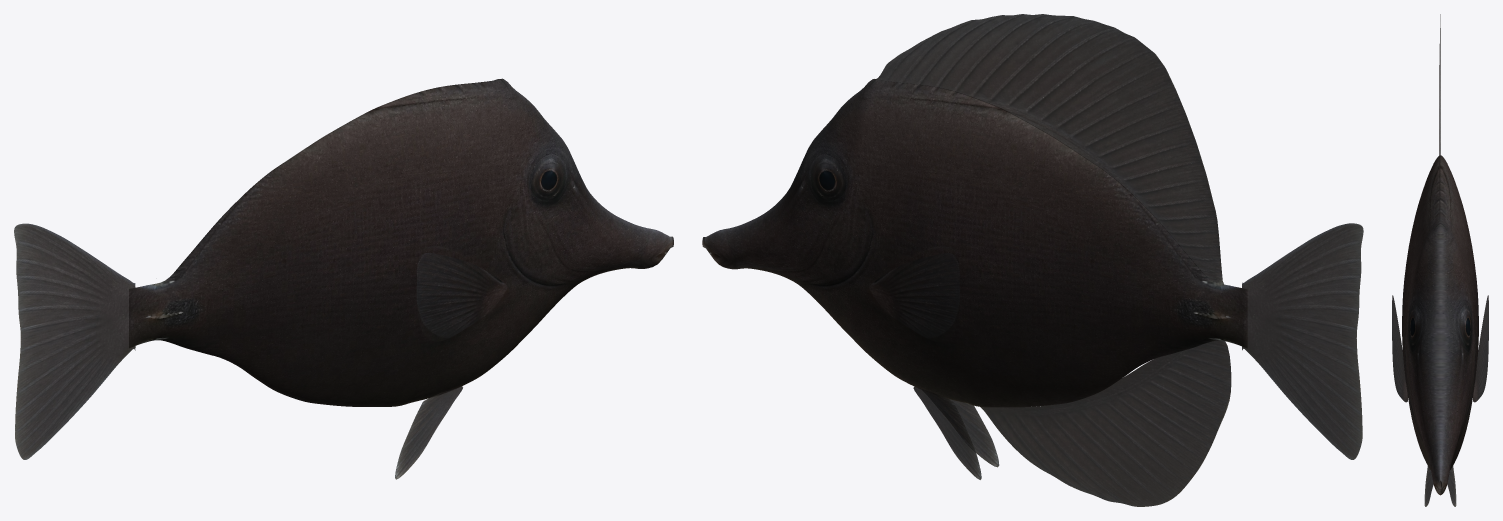
File: rostratum-AqwMZcU2.glb
The picture shows the model from 3 angles, left to right: view 1: azimuth 30°, elevation 25°; view 2: azimuth 150°, elevation 25°; view 3: azimuth 270°, elevation 25°; orthographic projection. The views are drawn at different scales.
Parts seen in each view (by area): view 1: rostratum__body, rostratum__fin_0, rostratum__pectoral_1, rostratum__gill_1, rostratum__pelvic_1, rostratum__eye_1; view 2: rostratum__body, rostratum__fin_1, rostratum__fin_2, rostratum__fin_0, rostratum__pectoral_-1, rostratum__gill_-1, rostratum__pelvic_-1, rostratum__pelvic_1, rostratum__eye_-1; view 3: rostratum__body, rostratum__pectoral_1, rostratum__pectoral_-1, rostratum__fin_1, rostratum__gill_-1, rostratum__gill_1, rostratum__eye_1, rostratum__eye_-1, rostratum__pelvic_1, rostratum__pelvic_-1.
Boxes of the visible parts, left/top/right/bottom form: rostratum__body: left=135, top=78, right=673, bottom=406; rostratum__fin_0: left=14, top=223, right=135, bottom=459; rostratum__pectoral_1: left=416, top=253, right=509, bottom=341; rostratum__gill_1: left=508, top=198, right=558, bottom=285; rostratum__pelvic_1: left=395, top=386, right=462, bottom=479; rostratum__eye_1: left=532, top=160, right=561, bottom=198; rostratum__body: left=702, top=79, right=1247, bottom=407; rostratum__fin_1: left=876, top=14, right=1223, bottom=284; rostratum__fin_2: left=980, top=340, right=1231, bottom=506; rostratum__fin_0: left=1242, top=223, right=1363, bottom=459; rostratum__pectoral_-1: left=866, top=253, right=959, bottom=341; rostratum__gill_-1: left=817, top=199, right=867, bottom=285; rostratum__pelvic_-1: left=913, top=386, right=981, bottom=479; rostratum__pelvic_1: left=948, top=399, right=999, bottom=467; rostratum__eye_-1: left=815, top=160, right=843, bottom=198; rostratum__body: left=1402, top=155, right=1478, bottom=495; rostratum__pectoral_1: left=1392, top=295, right=1407, bottom=402; rostratum__pectoral_-1: left=1473, top=295, right=1488, bottom=402; rostratum__fin_1: left=1439, top=14, right=1440, bottom=222; rostratum__gill_-1: left=1468, top=324, right=1475, bottom=407; rostratum__gill_1: left=1405, top=324, right=1412, bottom=407; rostratum__eye_1: left=1409, top=308, right=1418, bottom=342; rostratum__eye_-1: left=1462, top=308, right=1471, bottom=342; rostratum__pelvic_1: left=1424, top=466, right=1433, bottom=506; rostratum__pelvic_-1: left=1447, top=466, right=1456, bottom=506.
Size of the model in its own units: 1.22 by 0.8444 by 0.171.
5 materials, 5 textured.
